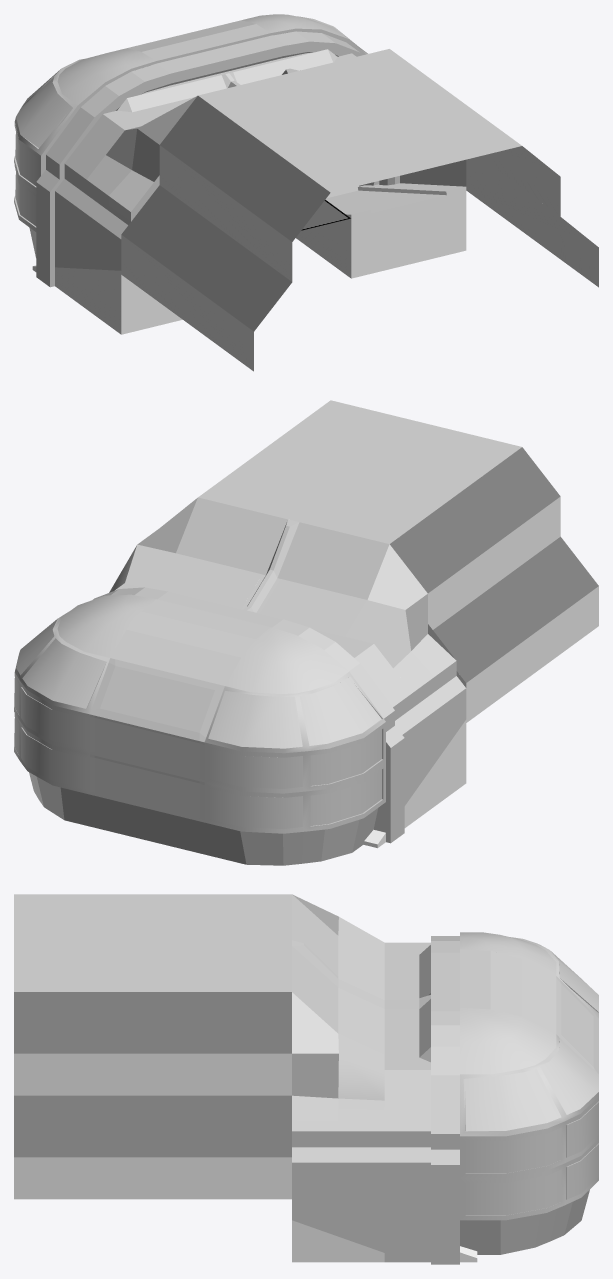
Rendered from Bridge_Window.fbx.
3 views of the same model, one above another, from view 1: azimuth 30°, elevation 25°; view 2: azimuth 150°, elevation 25°; view 3: azimuth 270°, elevation 25° (orthographic). The views are drawn at different scales.
Visible parts, largest first — view 1: Plane002, sm_Floor_Slope__2_, sm_Wall_45__6_, sm_Wall_45__7_, Wall_Flat_012, Container001, sm_Wall_Flat__33_, sm_Wall_Flat__22_, sm_Wall_Flat__30_, sm_Floor_Slope__3_, Domed Roof, roof (+23 smaller); view 2: Container001, Plane002, sm_Wall_45__7_, sm_Wall_45__6_, roof, Glass001, sm_Wall_Flat__22_, sm_Wall_Flat__33_, Wall_Beamdegree_002, Domed Roof, Glass, Glass002 (+25 smaller); view 3: Container001, Plane002, sm_Wall_45__4_, sm_Wall_45__5_, sm_Wall_Flat__31_, sm_Wall_Flat__30_, Wall_Flat_012, Glass004, roof, Domed Roof001, Glass005, Glass003 (+20 smaller).
Boxes of the visible parts, left/top/right/bottom form: Plane002: left=198, top=49, right=521, bottom=192; sm_Floor_Slope__2_: left=296, top=183, right=466, bottom=278; sm_Wall_45__6_: left=121, top=185, right=292, bottom=331; sm_Wall_45__7_: left=160, top=96, right=330, bottom=241; Wall_Flat_012: left=55, top=49, right=421, bottom=268; Container001: left=77, top=68, right=466, bottom=253; sm_Wall_Flat__33_: left=159, top=145, right=292, bottom=281; sm_Wall_Flat__22_: left=121, top=235, right=253, bottom=371; sm_Wall_Flat__30_: left=466, top=157, right=598, bottom=287; sm_Floor_Slope__3_: left=32, top=265, right=182, bottom=334; Domed Roof: left=57, top=48, right=156, bottom=106; roof: left=127, top=20, right=270, bottom=63; Container001: left=109, top=497, right=466, bottom=735; Plane002: left=198, top=400, right=521, bottom=543; sm_Wall_45__7_: left=390, top=447, right=560, bottom=593; sm_Wall_45__6_: left=433, top=536, right=598, bottom=682; roof: left=110, top=599, right=270, bottom=685; Glass001: left=208, top=676, right=381, bottom=748; sm_Wall_Flat__22_: left=466, top=586, right=598, bottom=722; sm_Wall_Flat__33_: left=428, top=496, right=560, bottom=629; Wall_Beamdegree_002: left=207, top=802, right=385, bottom=865; Domed Roof: left=225, top=627, right=348, bottom=693; Glass: left=209, top=729, right=381, bottom=788; Glass002: left=209, top=770, right=381, bottom=829; Container001: left=292, top=894, right=430, bottom=1178; Plane002: left=14, top=894, right=291, bottom=991; sm_Wall_45__4_: left=14, top=1095, right=291, bottom=1157; sm_Wall_45__5_: left=14, top=992, right=291, bottom=1053; sm_Wall_Flat__31_: left=14, top=1053, right=291, bottom=1095; sm_Wall_Flat__30_: left=14, top=1157, right=291, bottom=1199; Wall_Flat_012: left=384, top=942, right=430, bottom=1262; Glass004: left=463, top=1038, right=598, bottom=1130; roof: left=460, top=949, right=556, bottom=1033; Domed Roof001: left=460, top=1008, right=556, bottom=1074; Glass005: left=465, top=1143, right=598, bottom=1215; Glass003: left=465, top=1101, right=598, bottom=1173.
Bounding box in the file's own units: 74 × 44 × 101.
